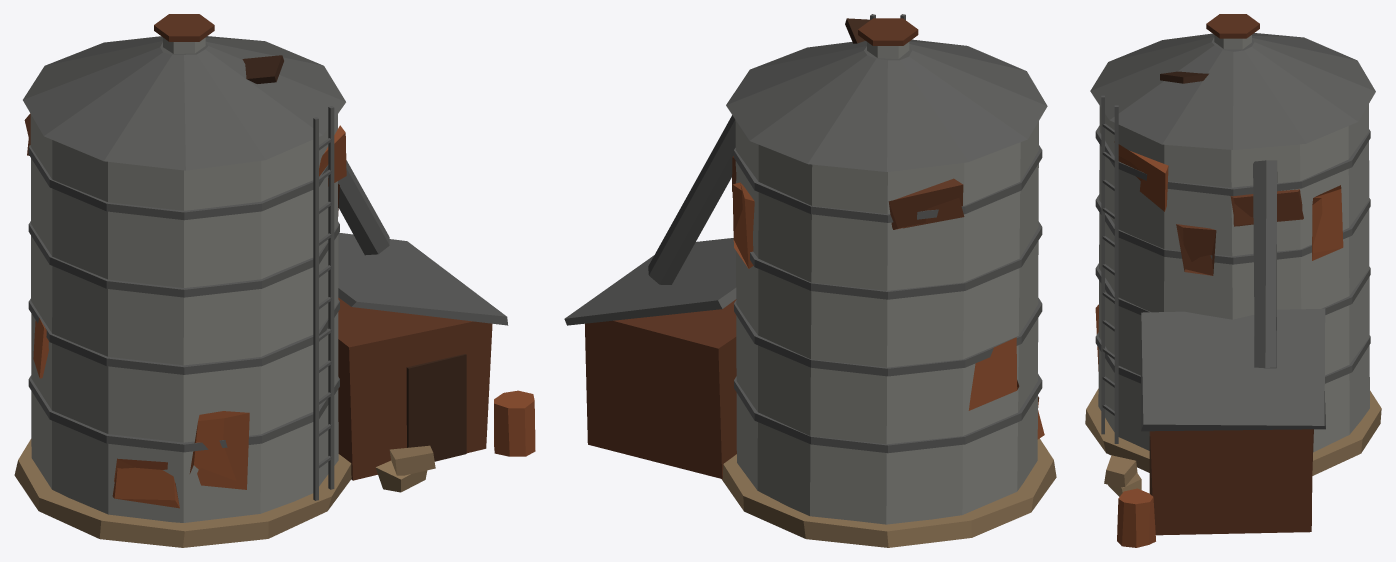
Rendered from silo.glb.
3 views of the same model, side by side, from view 1: azimuth 30°, elevation 25°; view 2: azimuth 150°, elevation 25°; view 3: azimuth 270°, elevation 25° (orthographic). The views are drawn at different scales.
Parts seen in each view (by area): view 1: silo; view 2: silo; view 3: silo.
Part boxes in pixels (x1=…): silo: x1=14, y1=14, x2=535, y2=547; silo: x1=564, y1=14, x2=1056, y2=547; silo: x1=1085, y1=14, x2=1381, y2=547.
Bounding box in the file's own units: 8.32 × 8.21 × 5.5.
